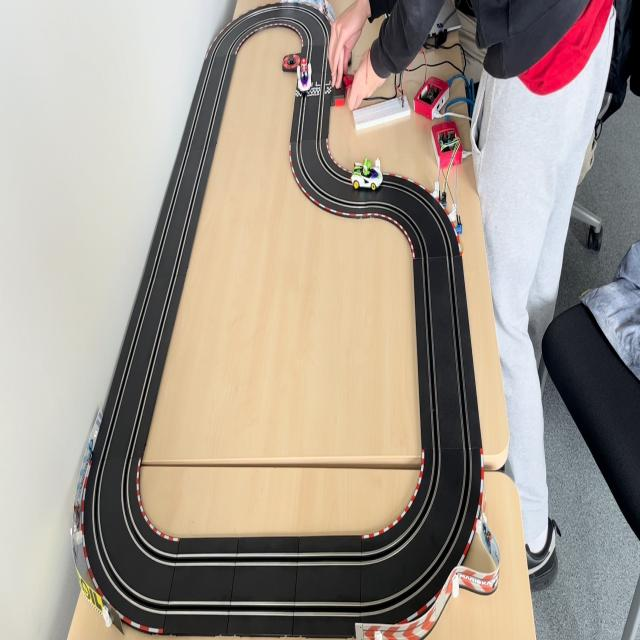mario: (296, 57, 314, 94)
yoshi: (349, 156, 385, 193)
